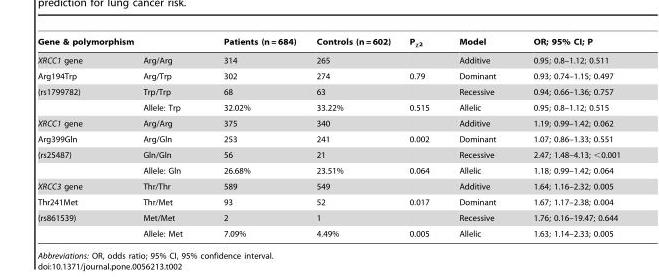table: (37, 37, 620, 237)
table column: (514, 37, 620, 237), (202, 37, 305, 237), (305, 37, 399, 237), (112, 37, 202, 237), (37, 37, 112, 237), (443, 37, 514, 237), (399, 37, 443, 237)
table column header: (37, 37, 620, 68)
table row: (37, 51, 620, 68), (37, 83, 620, 99), (37, 99, 620, 115), (37, 115, 620, 131), (37, 146, 620, 162), (37, 162, 620, 178), (37, 178, 620, 194), (37, 209, 620, 225), (37, 68, 620, 83), (37, 131, 620, 146), (37, 194, 620, 209), (37, 37, 620, 51), (37, 225, 620, 237)
table spanning cell: (514, 37, 620, 68), (202, 37, 305, 68), (305, 37, 399, 68), (37, 83, 112, 115), (37, 146, 112, 178), (37, 37, 202, 51), (443, 37, 514, 68), (37, 209, 112, 237), (399, 37, 443, 68)
